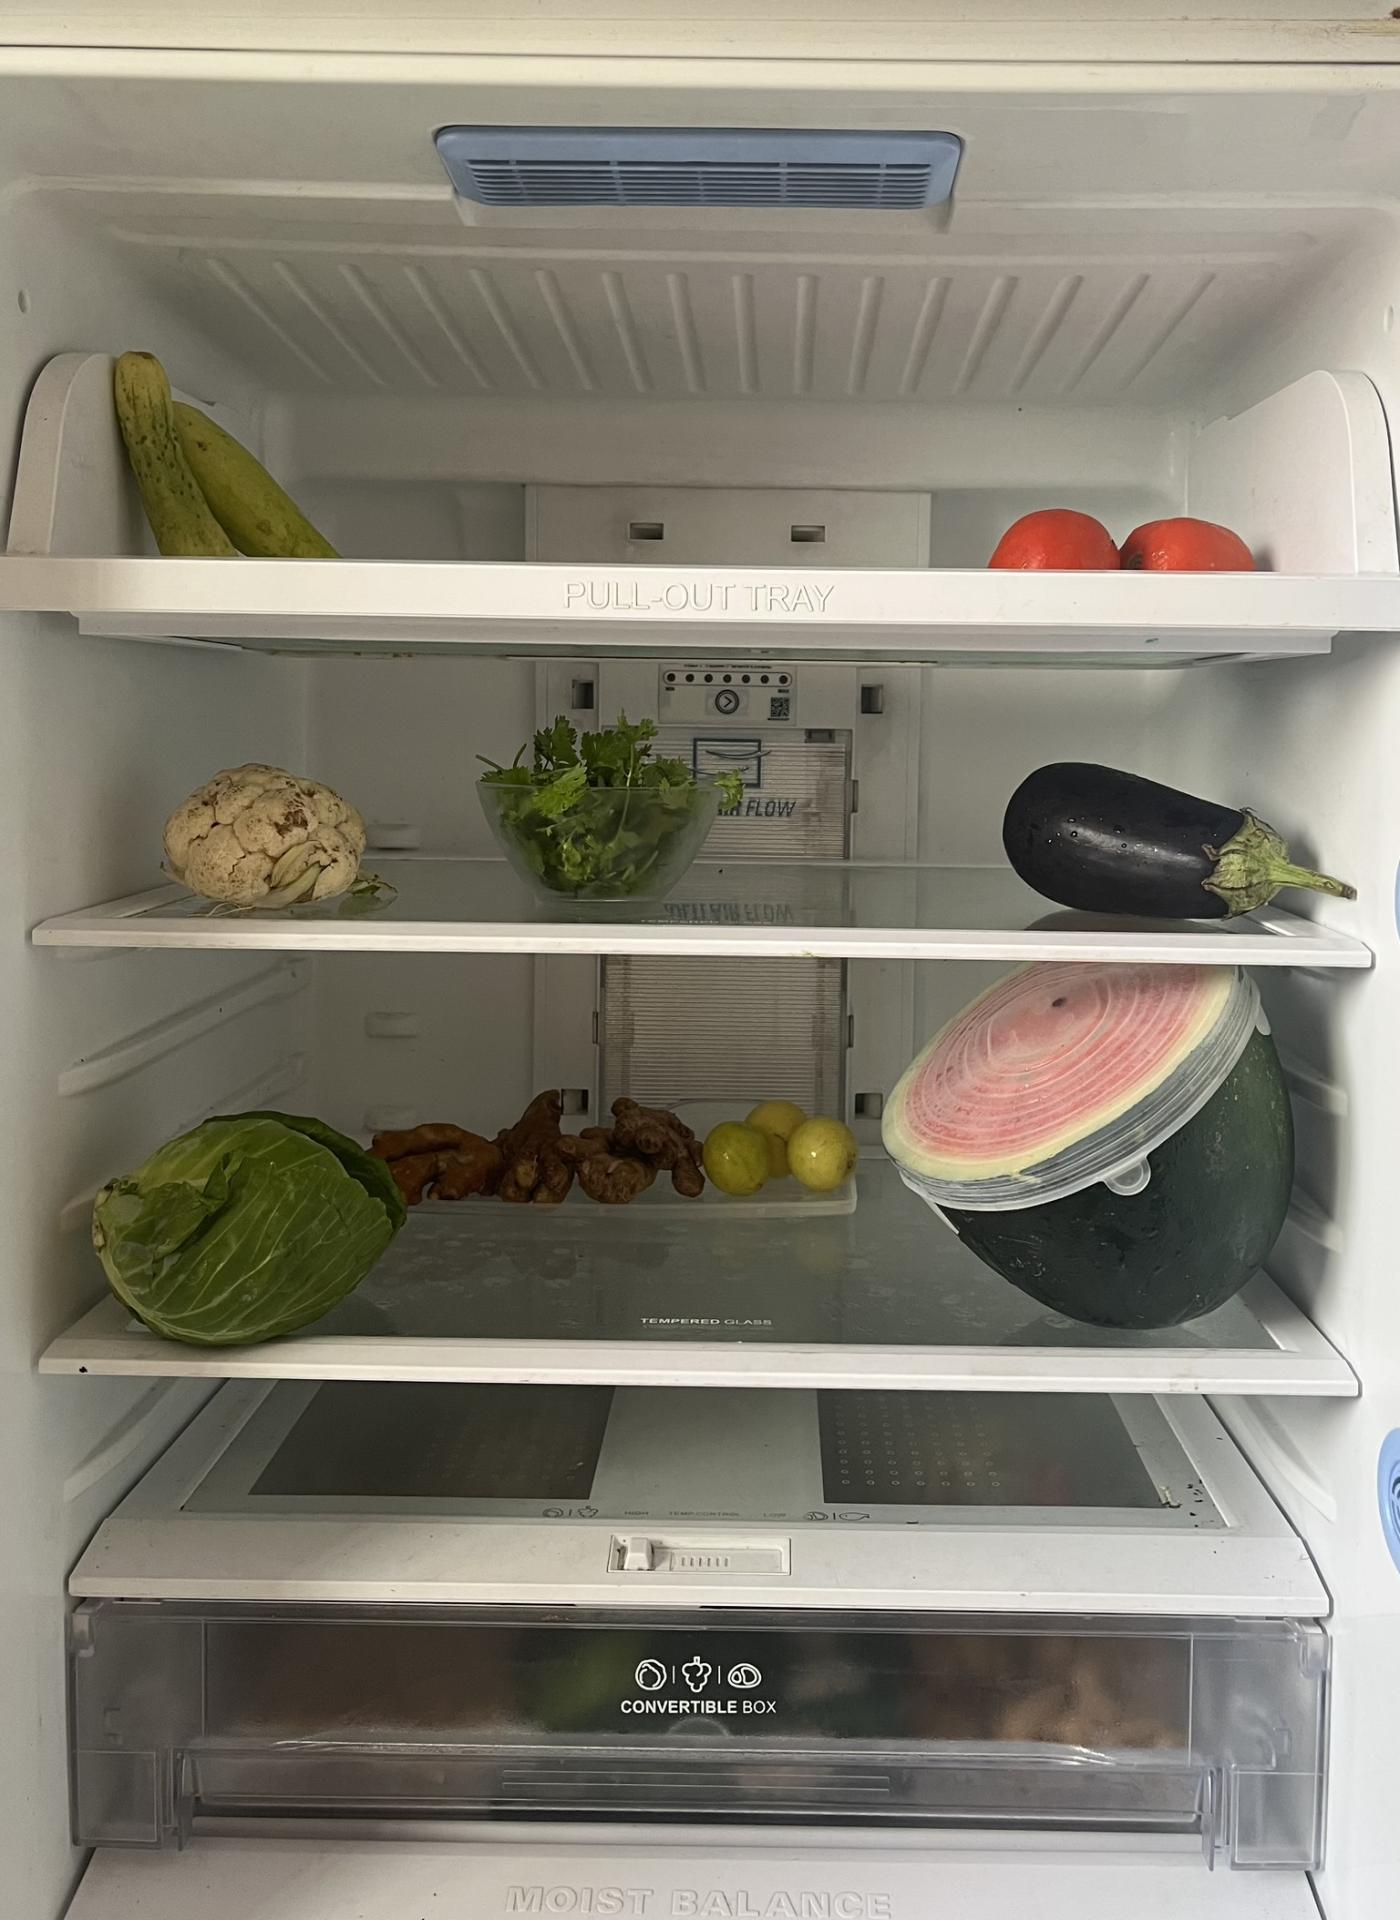cabbage: (85, 1112, 401, 1340)
cauliflower: (164, 763, 377, 906)
coriander: (495, 710, 711, 900)
cucumber: (116, 344, 325, 556)
ginger: (371, 1088, 705, 1206)
lemon: (708, 1075, 845, 1194)
tomato: (993, 493, 1267, 575)
watermelon: (881, 956, 1303, 1322)
